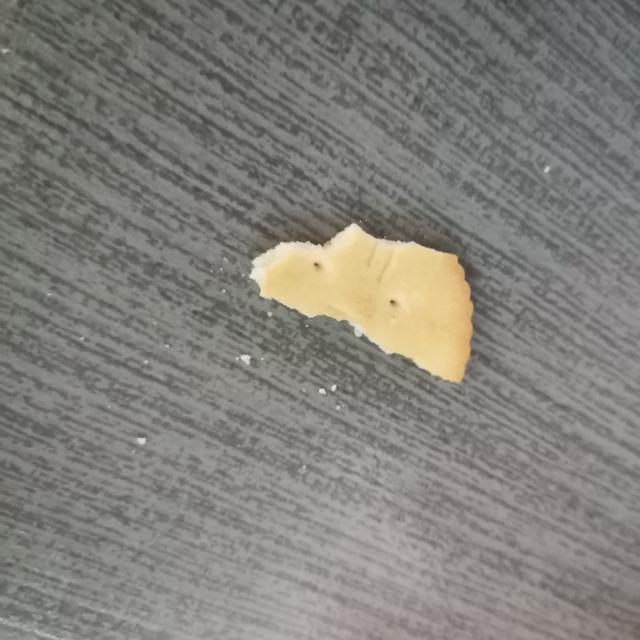Broken: (249, 222, 474, 385)
